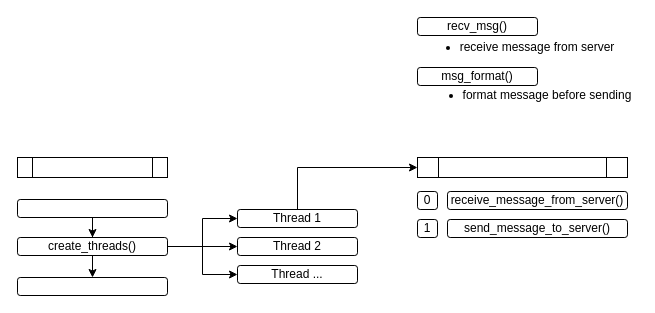
This 655x313 diagram has some shape labels left out. Here are the shapes that lost their labels. From the top down, the centre of each, then its label:
At point (92, 167): "main()".
At point (522, 167): "scheduler()".
At point (92, 208): "connect_server()".
At point (92, 286): "create_tasks()".
